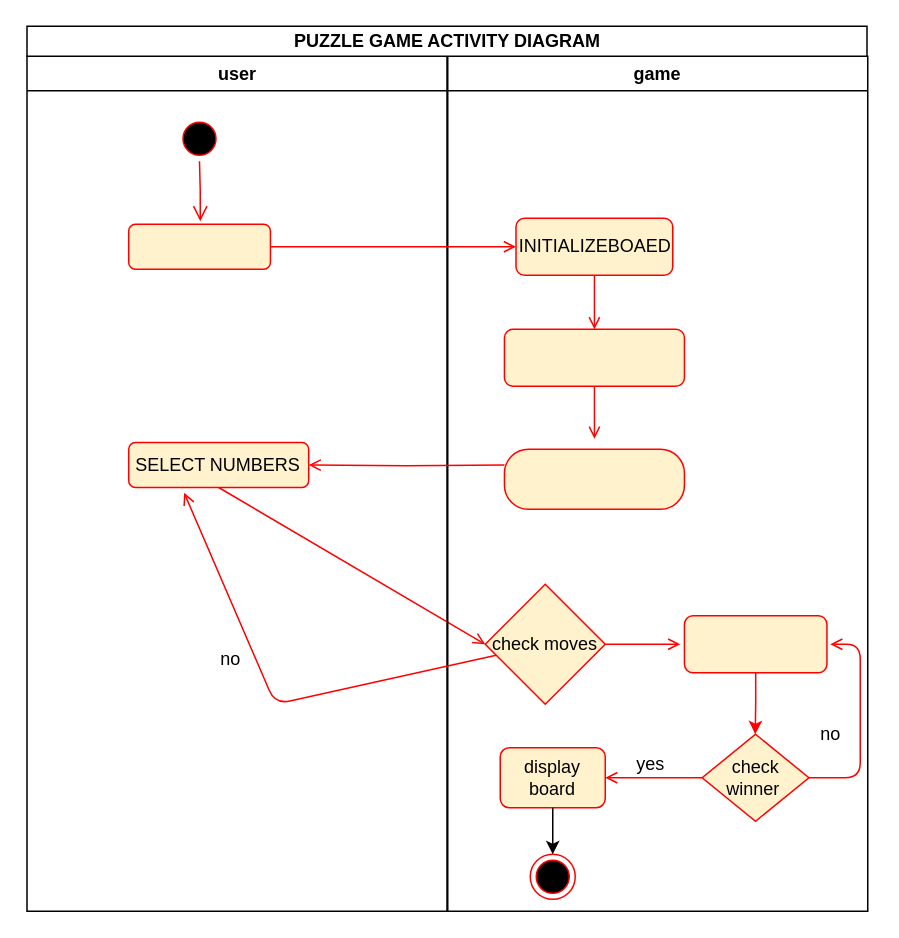
The diagram is 899 pixels wide and 938 high, and some of its shapes have lost their labels. The centre of each missing label's shape, as x and y in pixels:
"DRAW BOARD" goes at point 593,478.
"move char" goes at point 755,643.
"RANDOMIZE BOARD" goes at point 593,357.
"START GAME" goes at point 198,246.
